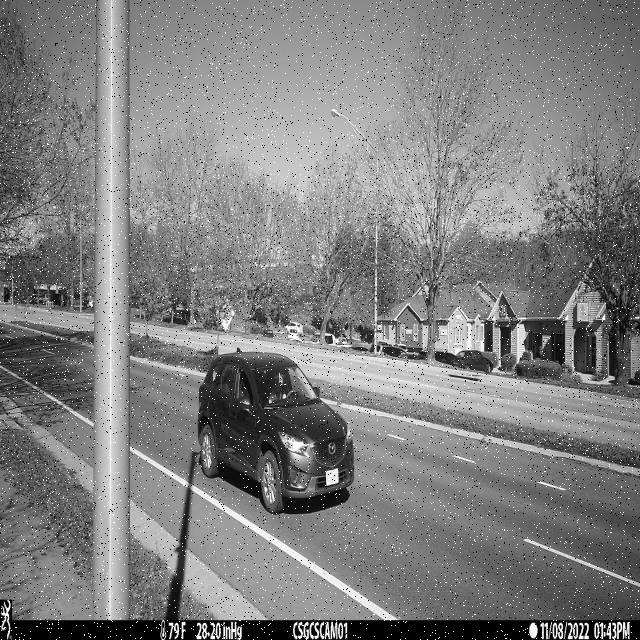SUV: (198, 352, 355, 515)
